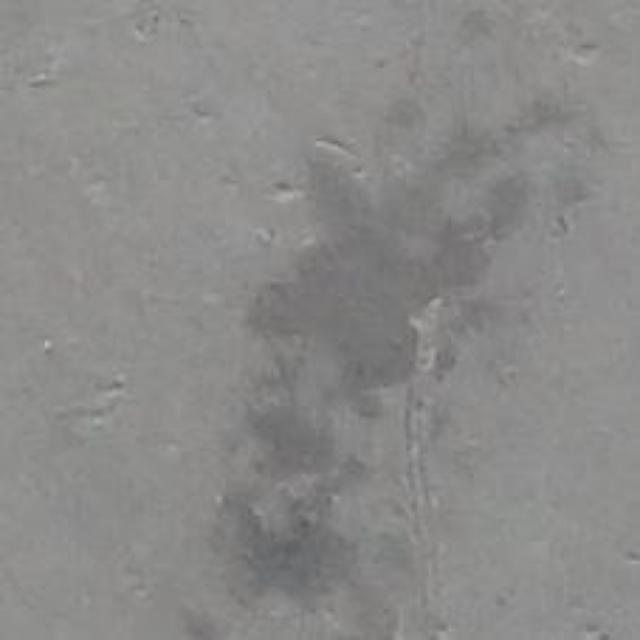peeling plaster: (249, 139, 524, 453)
